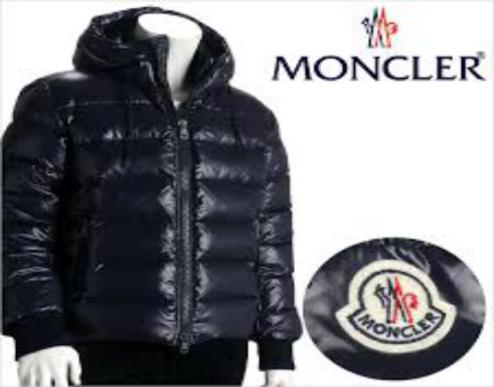MONCLER: (269, 50, 484, 88), (367, 278, 420, 327), (350, 4, 400, 49)
